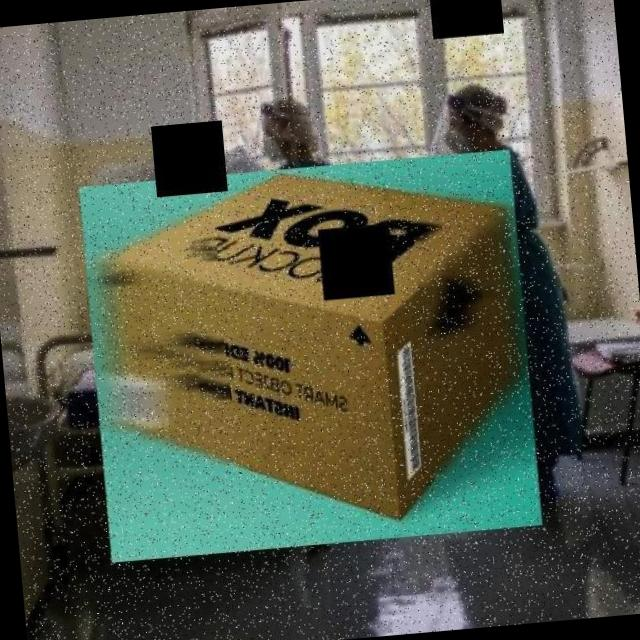box: (69, 143, 546, 570)
